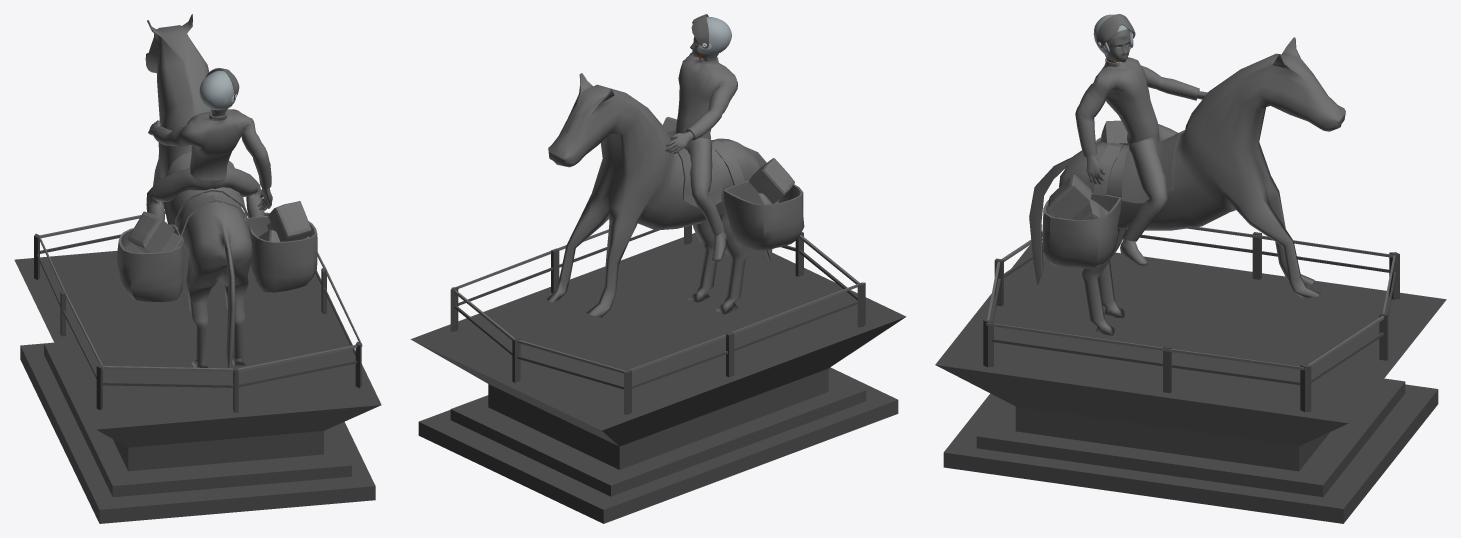
File: patung2.fbx
3 views of the same model, side by side, from view 1: azimuth 30°, elevation 25°; view 2: azimuth 150°, elevation 25°; view 3: azimuth 270°, elevation 25° (orthographic). The views are drawn at different scales.
Visible parts, largest first — view 1: Cube.006; view 2: Cube.006; view 3: Cube.006.
Part boxes in pixels (bbox=[...]): Cube.006: bbox=[14, 14, 381, 523]; Cube.006: bbox=[410, 14, 906, 523]; Cube.006: bbox=[935, 14, 1446, 523].
Size of the model in its own units: 1796 by 1903 by 2129.
